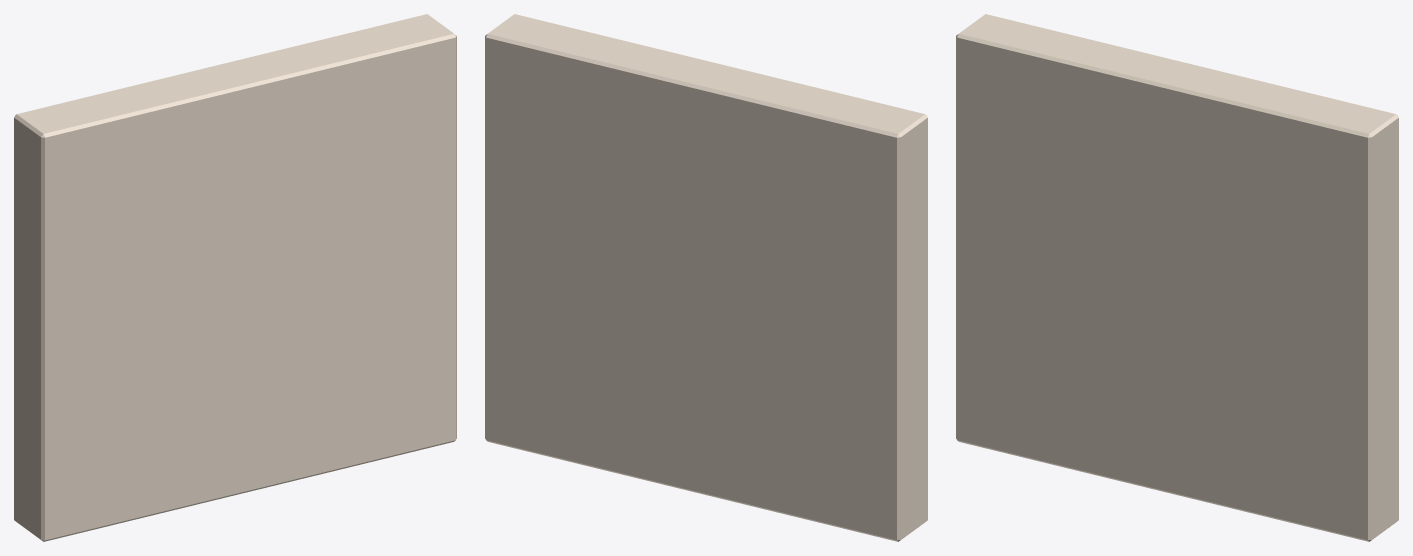
The model's file is back-wall-central.glb.
The picture shows the model from 3 angles, left to right: view 1: azimuth 30°, elevation 25°; view 2: azimuth 150°, elevation 25°; view 3: azimuth 330°, elevation 25°; orthographic projection.
Parts seen in each view (by area): view 1: Cube.001; view 2: Cube.001; view 3: Cube.001.
Boxes of the visible parts, box(x1,y1,x2,y2) form: Cube.001: box(14, 14, 456, 541); Cube.001: box(485, 14, 927, 541); Cube.001: box(956, 14, 1398, 541).
Bounding box in the file's own units: 1.6 × 1.5 × 0.2.
